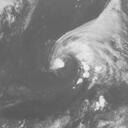cyclone: (48, 37, 98, 86)
